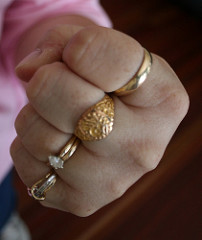fist: (24, 29, 175, 219)
